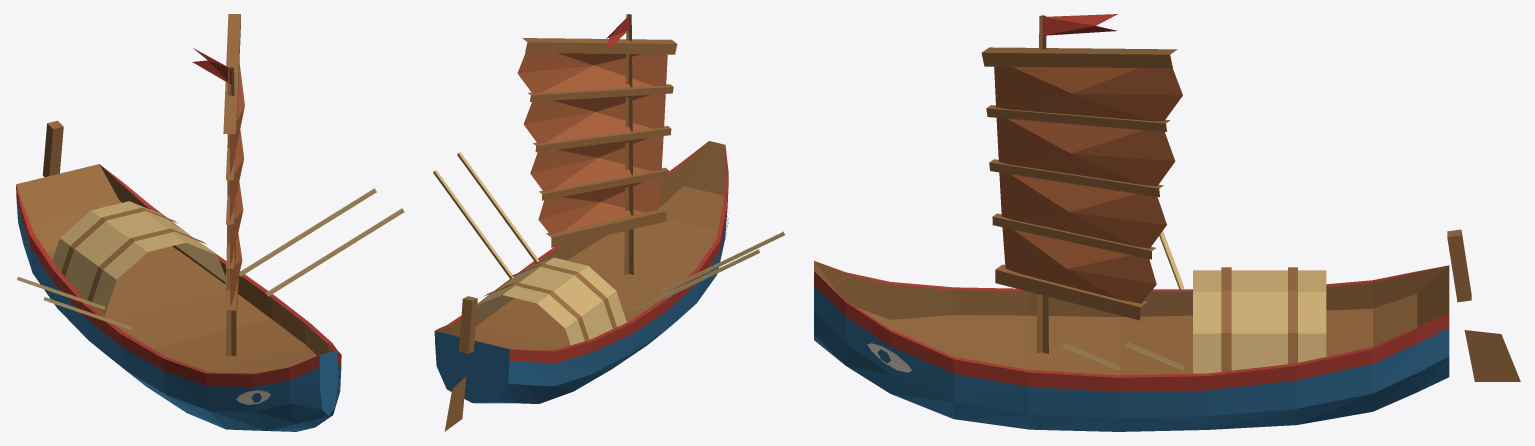
Rendered from ship_line_boat.glb.
The picture shows the model from 3 angles, left to right: view 1: azimuth 30°, elevation 25°; view 2: azimuth 150°, elevation 25°; view 3: azimuth 270°, elevation 25°; orthographic projection. The views are drawn at different scales.
Parts seen in each view (by area): view 1: ship_line_boat; view 2: ship_line_boat; view 3: ship_line_boat.
Boxes of the visible parts, left/top/right/bottom form: ship_line_boat: left=16, top=14, right=404, bottom=431; ship_line_boat: left=433, top=14, right=784, bottom=431; ship_line_boat: left=814, top=14, right=1520, bottom=431.
Size of the model in its own units: 4.8 by 4.25 by 6.9.
